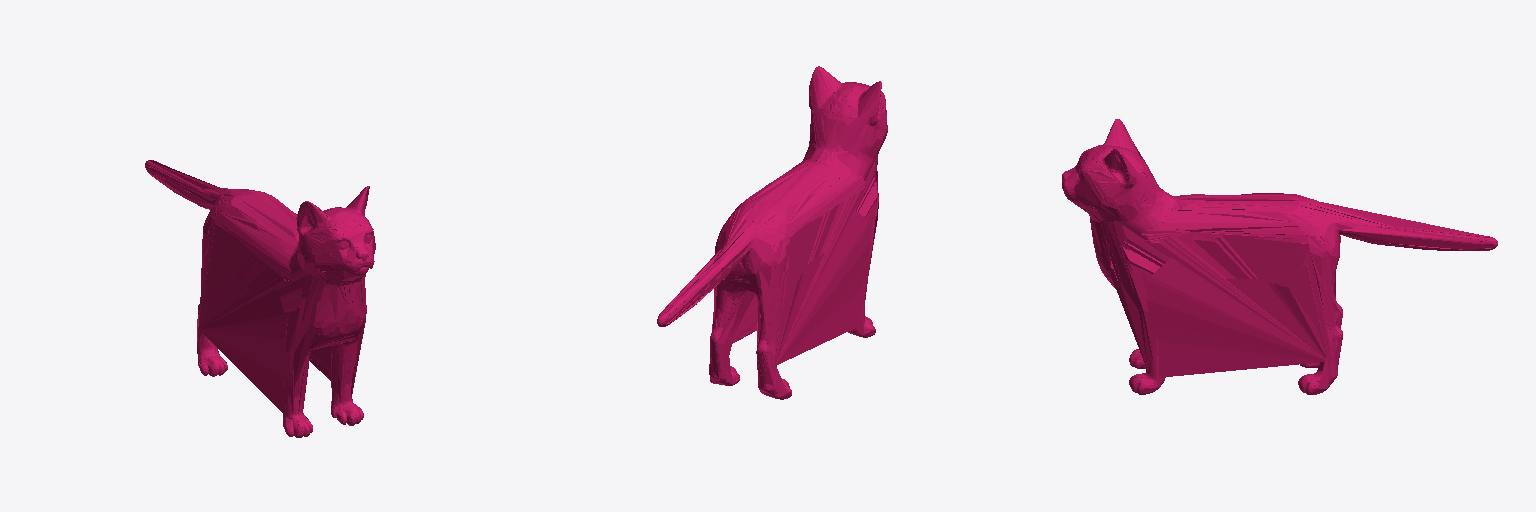
The model's file is astro.obj.
3 renders of one model, left to right at view 1: azimuth 30°, elevation 25°; view 2: azimuth 150°, elevation 25°; view 3: azimuth 270°, elevation 25°, orthographic.
Parts seen in each view (by area): view 1: 12221_Cat_v1_l3; view 2: 12221_Cat_v1_l3; view 3: 12221_Cat_v1_l3.
Boxes of the visible parts, box(x1,y1,x2,y2) form: 12221_Cat_v1_l3: box(145, 160, 375, 437); 12221_Cat_v1_l3: box(657, 66, 887, 399); 12221_Cat_v1_l3: box(1062, 119, 1497, 394).
Bounding box in the file's own units: 0.9656 × 2.9 × 4.69.